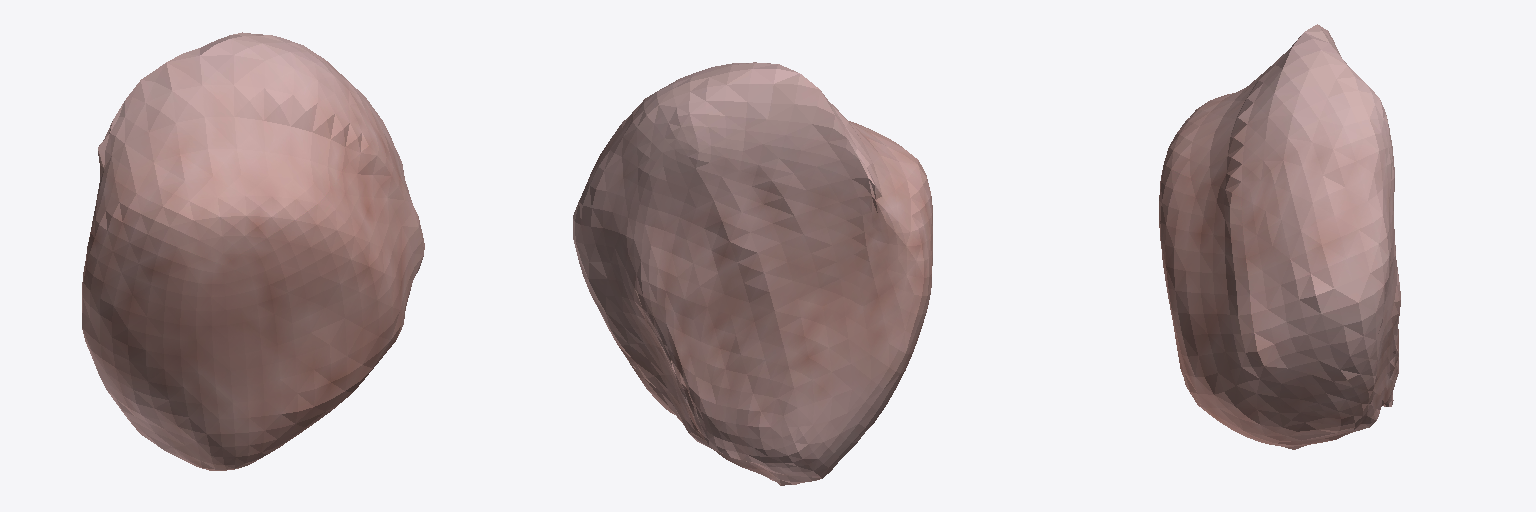
3 renders of one model, left to right at view 1: azimuth 30°, elevation 25°; view 2: azimuth 150°, elevation 25°; view 3: azimuth 270°, elevation 25°, orthographic.
Visible parts, largest first — view 1: Group47983; view 2: Group47983; view 3: Group47983.
Boxes of the visible parts, <box> form: Group47983: <box>82,32,424,470</box>; Group47983: <box>573,62,932,485</box>; Group47983: <box>1159,24,1400,449</box>.
Bounding box in the file's own units: 0.4042 × 0.4854 × 0.2596.
Materials: 1 (1 with a texture image).